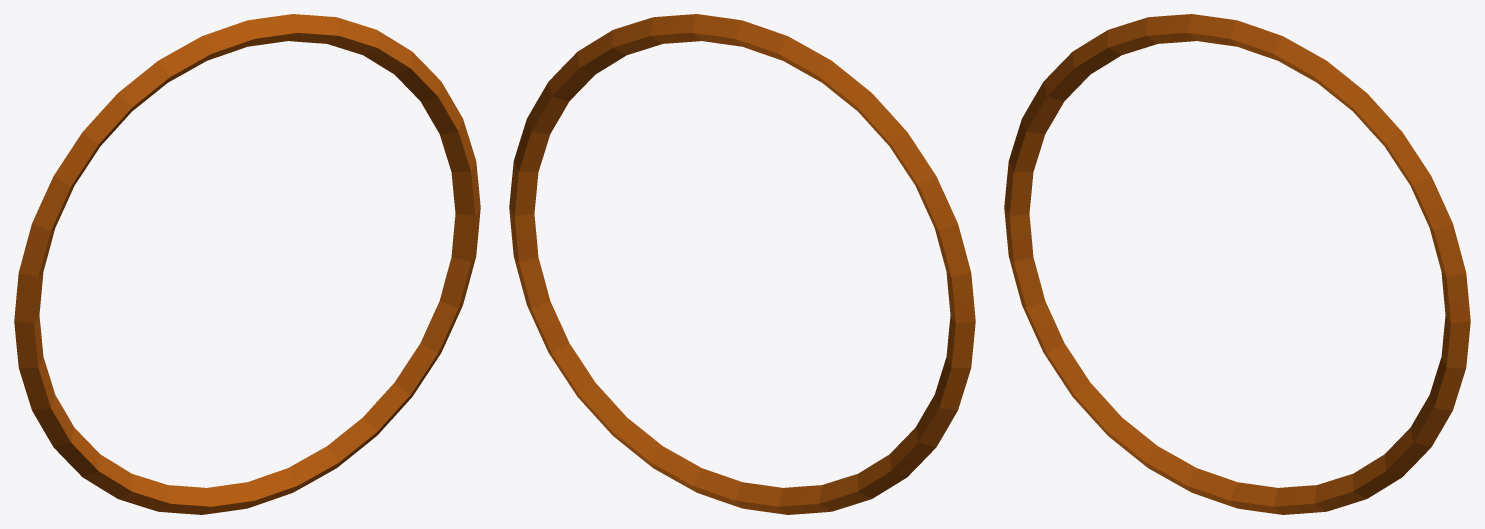
The model's file is ring.obj.
The picture shows the model from 3 angles, left to right: view 1: azimuth 30°, elevation 25°; view 2: azimuth 150°, elevation 25°; view 3: azimuth 330°, elevation 25°; orthographic projection.
Parts seen in each view (by area): view 1: Circle; view 2: Circle; view 3: Circle.
Part boxes in pixels (x1,y1,x2,y2): Circle: (14,14,480,514); Circle: (509,14,975,514); Circle: (1004,14,1470,514).
Bounding box in the file's own units: 0.3796 × 0.3796 × 0.0205.
